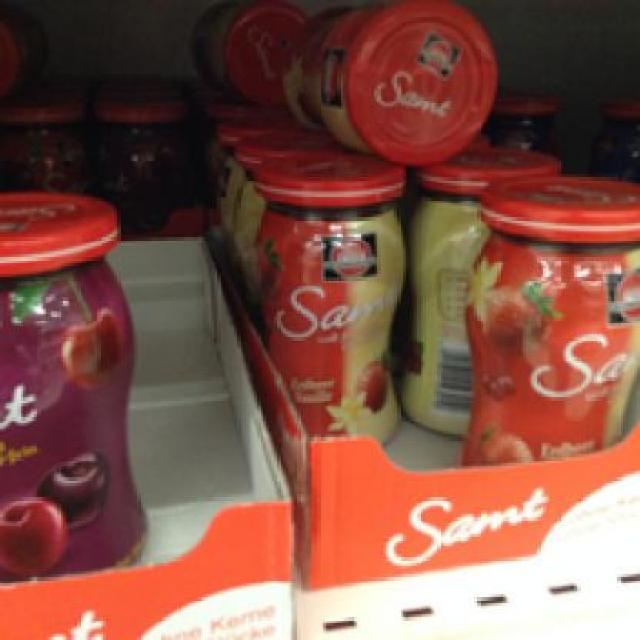Jam: (0, 187, 152, 589), (457, 170, 637, 464), (248, 152, 406, 448), (280, 3, 497, 163)
